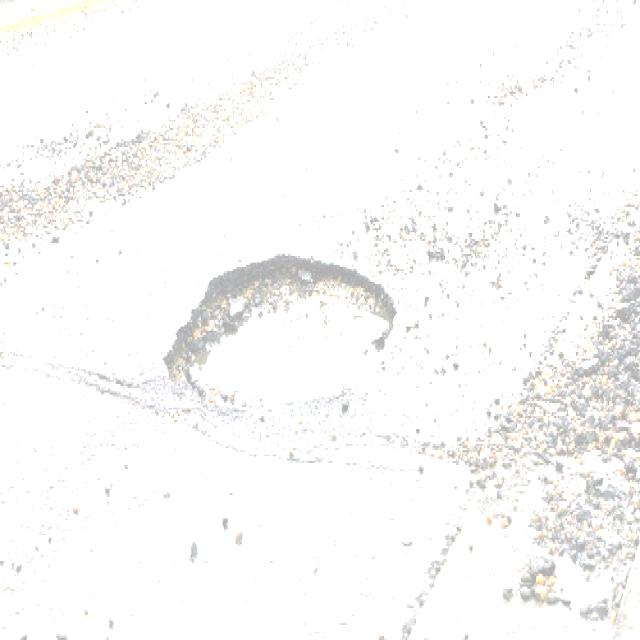Pothole: (151, 242, 410, 433)
